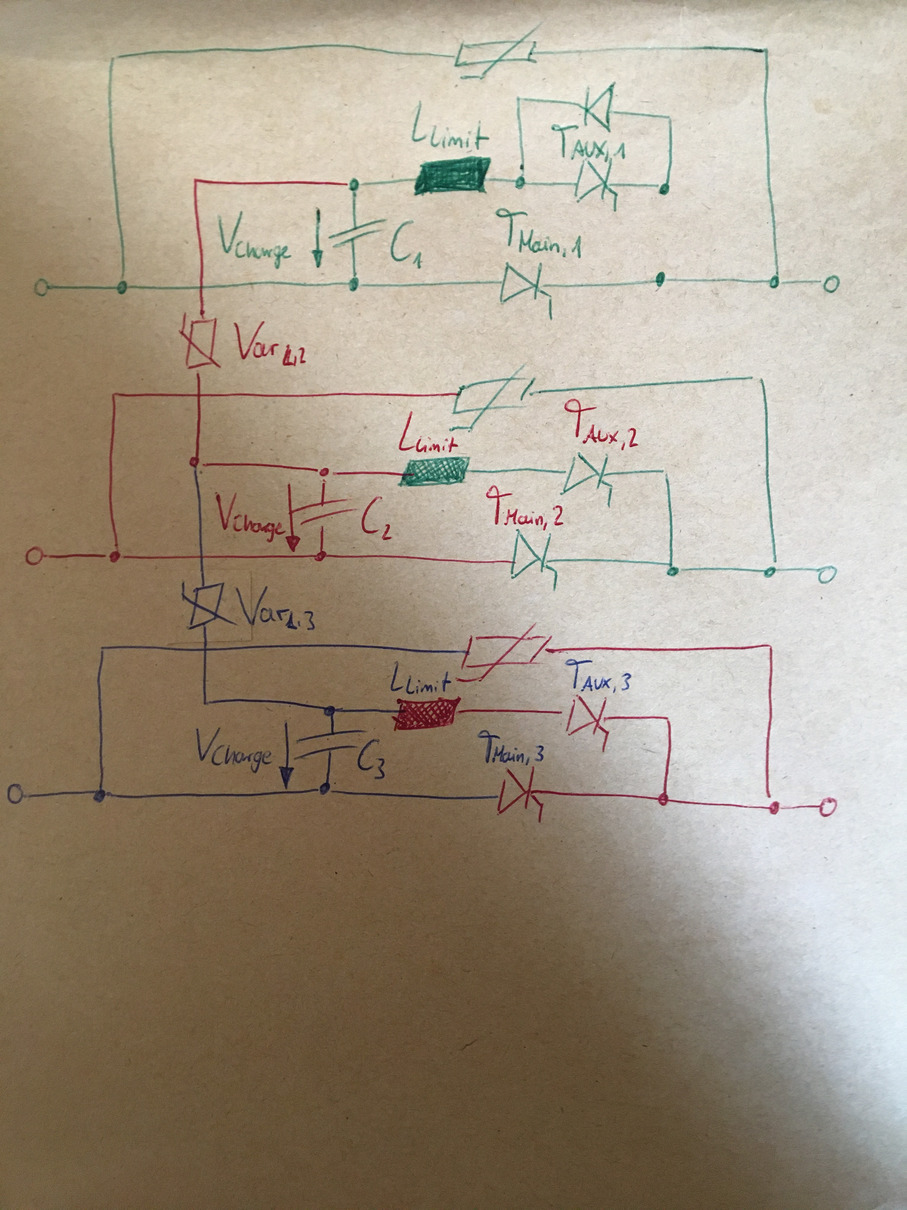capacitor.unpolarized: (292, 728, 364, 761), (327, 215, 387, 253), (294, 496, 357, 529)
crossover: (193, 389, 205, 402), (196, 281, 207, 294), (196, 551, 207, 562), (201, 644, 211, 655)
diode: (583, 81, 616, 134)
inductor: (413, 156, 493, 196), (392, 695, 462, 733), (397, 455, 472, 489)
junction: (104, 544, 127, 564), (764, 794, 783, 817), (187, 454, 210, 473), (314, 465, 338, 483), (91, 785, 113, 804), (762, 559, 781, 579), (344, 176, 365, 194), (347, 272, 364, 294), (666, 559, 683, 579), (115, 274, 130, 296), (747, 370, 767, 386), (766, 273, 784, 290), (322, 703, 342, 718), (317, 780, 334, 797), (655, 180, 673, 196), (656, 789, 671, 808), (106, 51, 126, 64), (513, 174, 528, 191), (313, 547, 328, 563), (658, 465, 673, 480), (108, 388, 122, 402), (663, 112, 677, 125), (662, 712, 675, 725), (199, 697, 213, 709), (760, 45, 774, 57), (191, 174, 203, 187), (765, 640, 778, 652), (514, 94, 527, 106), (98, 642, 108, 654)
terminal: (815, 561, 840, 587), (5, 782, 31, 806), (818, 273, 843, 295), (24, 545, 49, 566), (817, 796, 839, 819), (32, 276, 55, 298)
text: (494, 206, 584, 261), (216, 208, 294, 271), (409, 99, 491, 154), (233, 583, 318, 634), (563, 397, 640, 452), (213, 490, 288, 545), (193, 725, 273, 775), (231, 319, 310, 369), (485, 483, 565, 532), (549, 122, 627, 164), (396, 408, 460, 454), (475, 728, 546, 767), (564, 656, 633, 695), (389, 659, 452, 694), (388, 217, 426, 271), (359, 493, 396, 544), (356, 737, 388, 781)
thyristor: (508, 528, 564, 592), (496, 261, 556, 318), (559, 695, 615, 750), (560, 451, 614, 507), (495, 766, 546, 824), (573, 159, 619, 203)
varistor: (446, 363, 537, 433), (454, 621, 553, 684), (454, 22, 540, 80), (179, 579, 240, 632), (178, 309, 223, 375)
